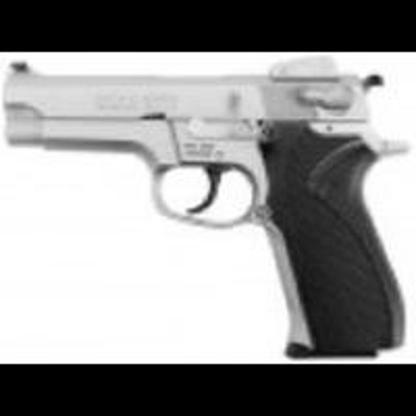weapon: (3, 57, 413, 357)
